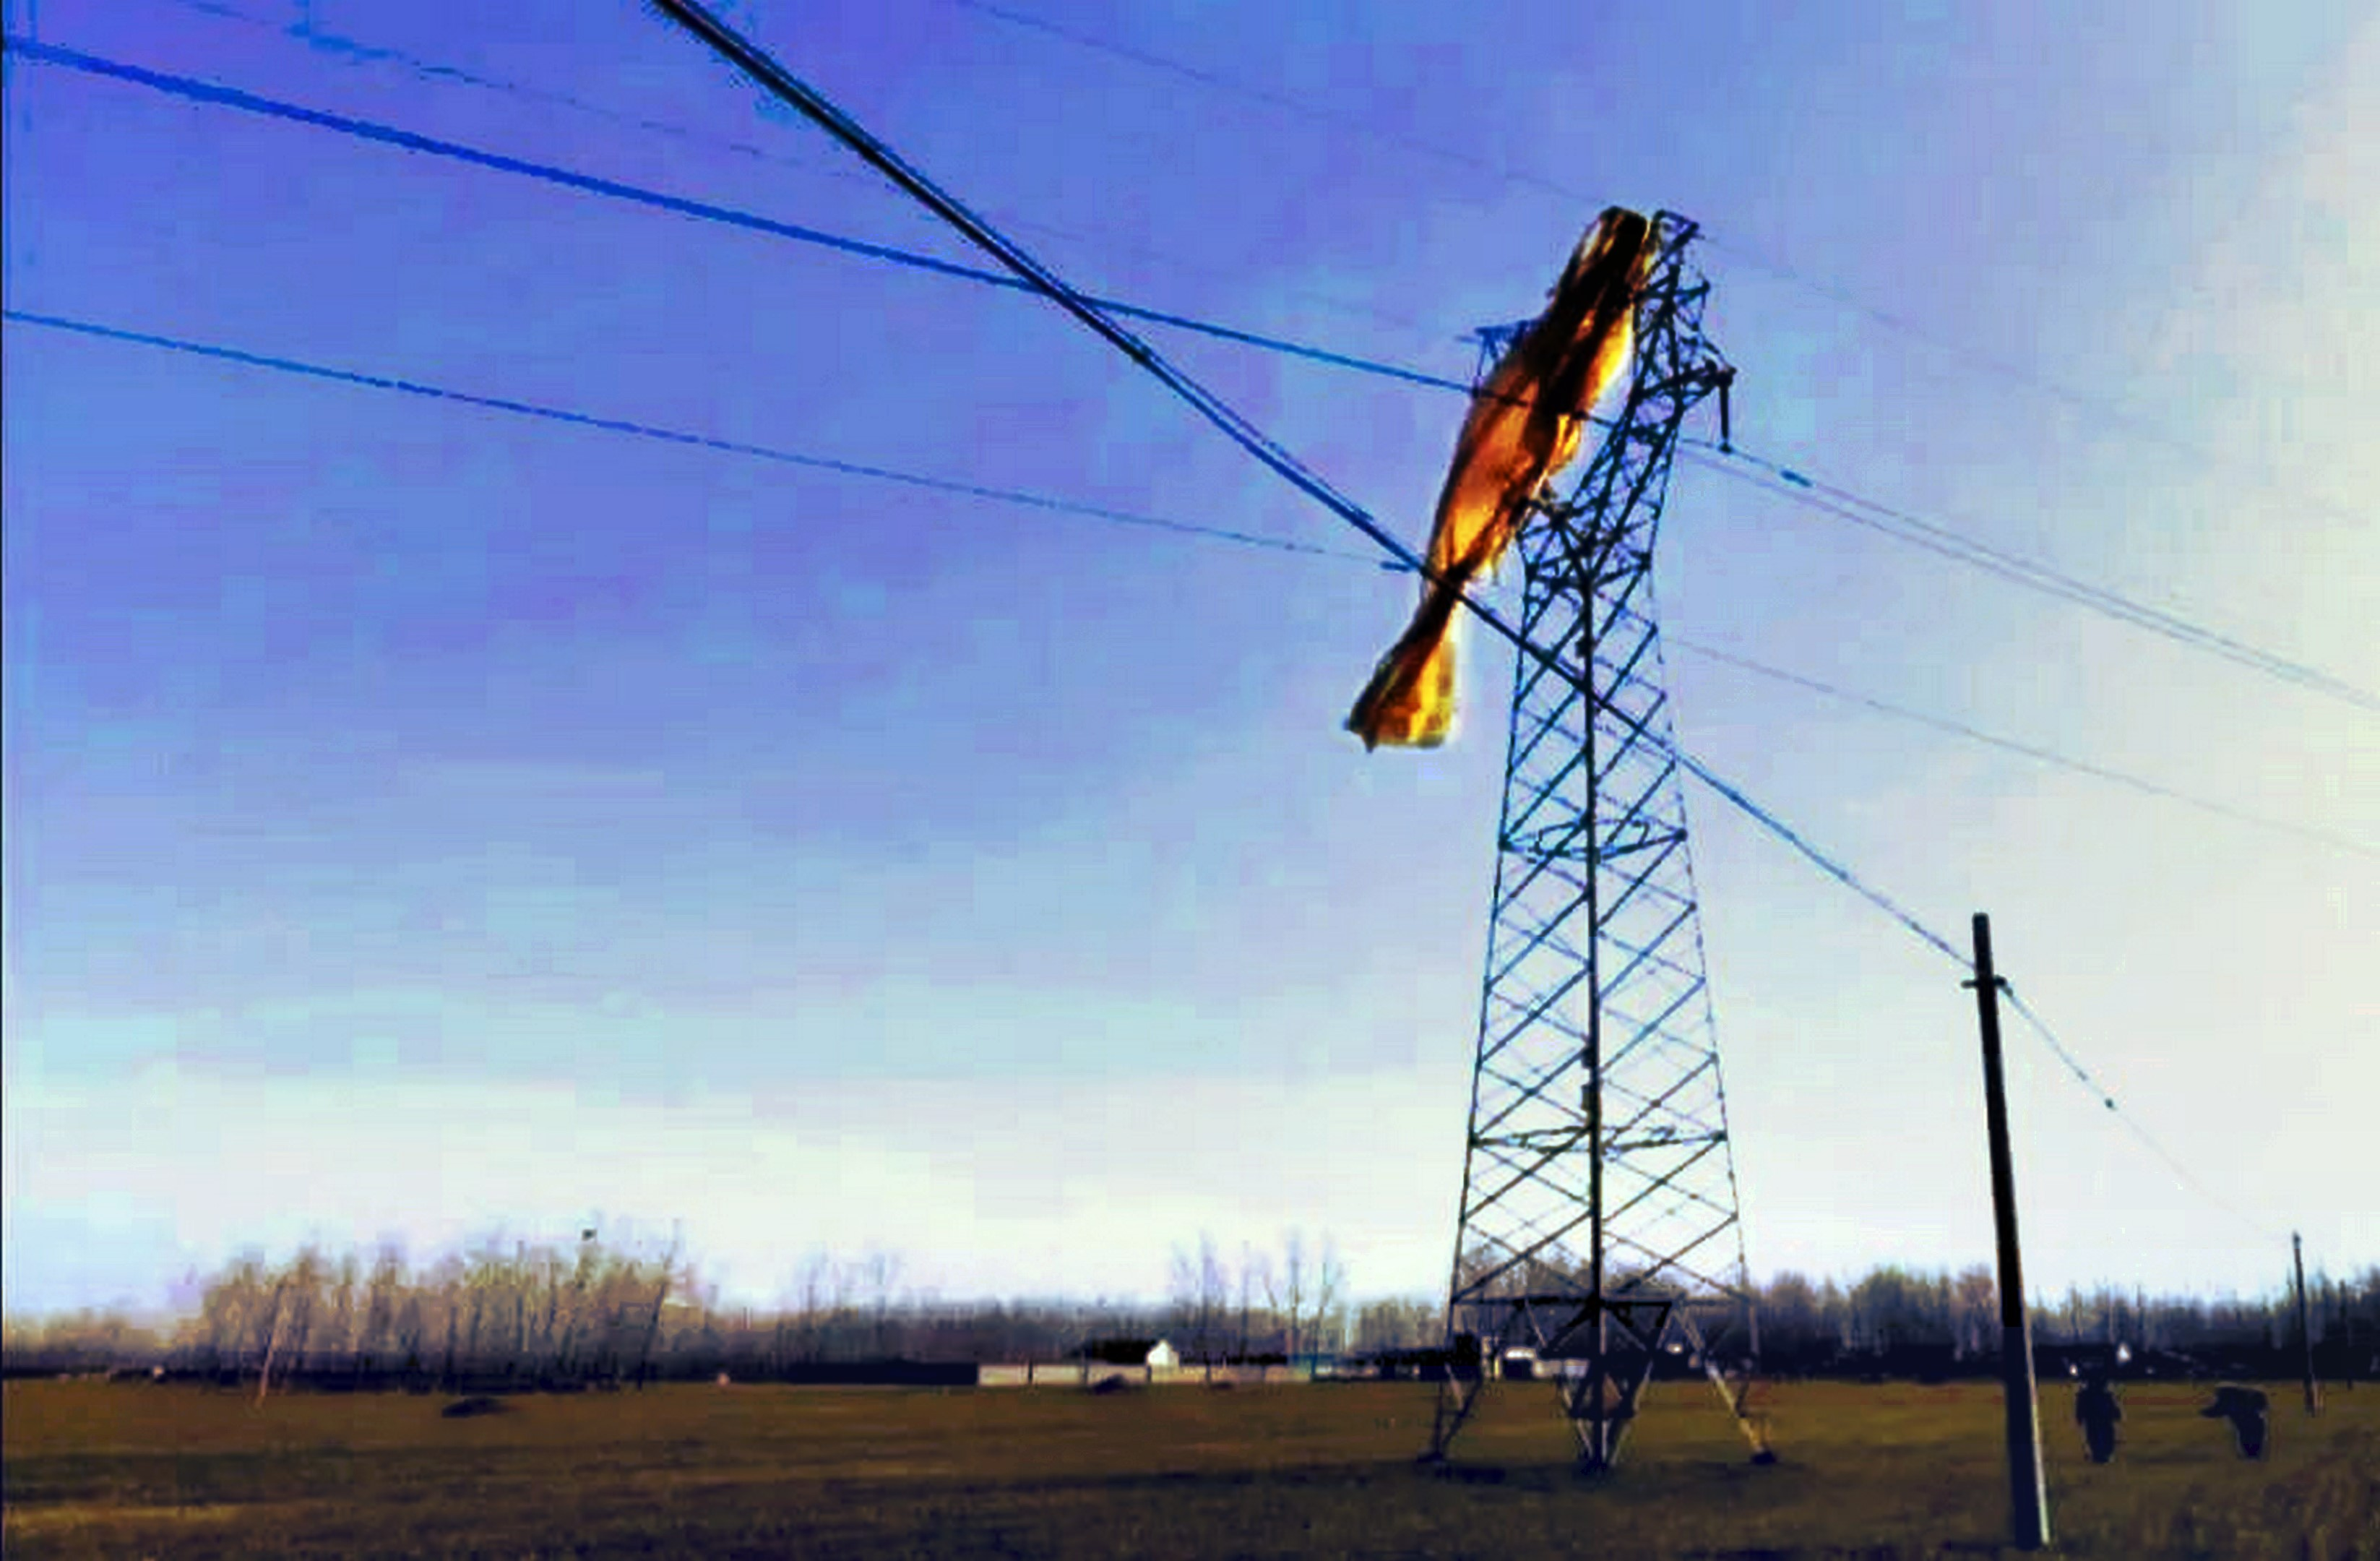wire foreign body: (1278, 159, 1692, 772)
